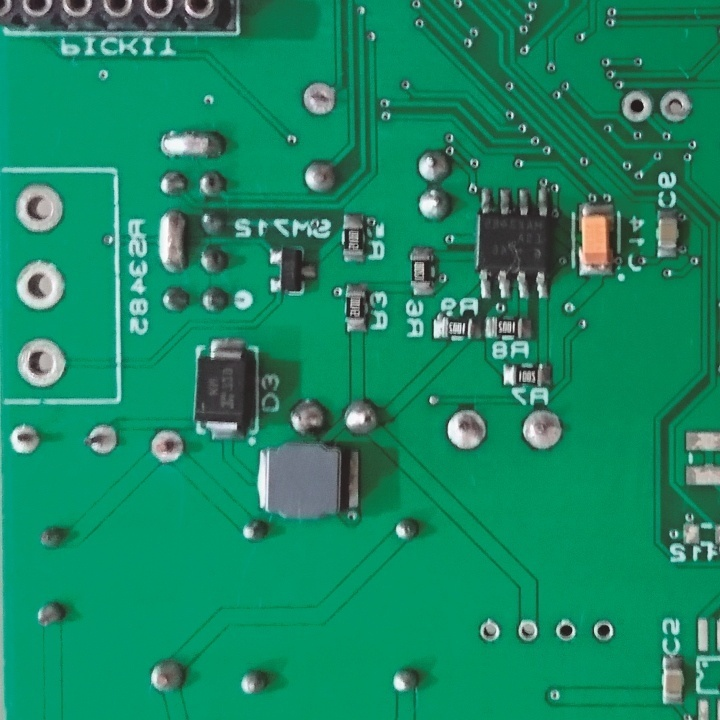F: (10, 178, 68, 235), (12, 258, 70, 314), (16, 340, 67, 389), (519, 409, 565, 455), (444, 410, 491, 452), (658, 86, 693, 129), (81, 422, 124, 457), (299, 80, 336, 115), (7, 422, 44, 456), (147, 427, 183, 461), (619, 89, 653, 122), (514, 619, 546, 644), (474, 618, 501, 646), (553, 620, 585, 642), (592, 619, 616, 643)
P: (154, 209, 191, 274), (160, 126, 227, 160)
